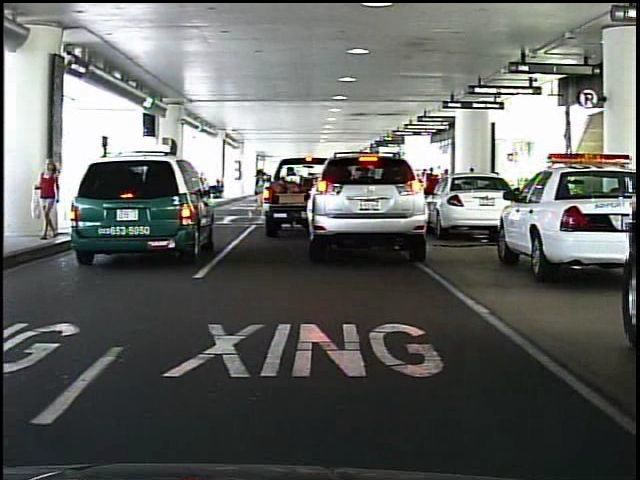person: (39, 153, 65, 243)
